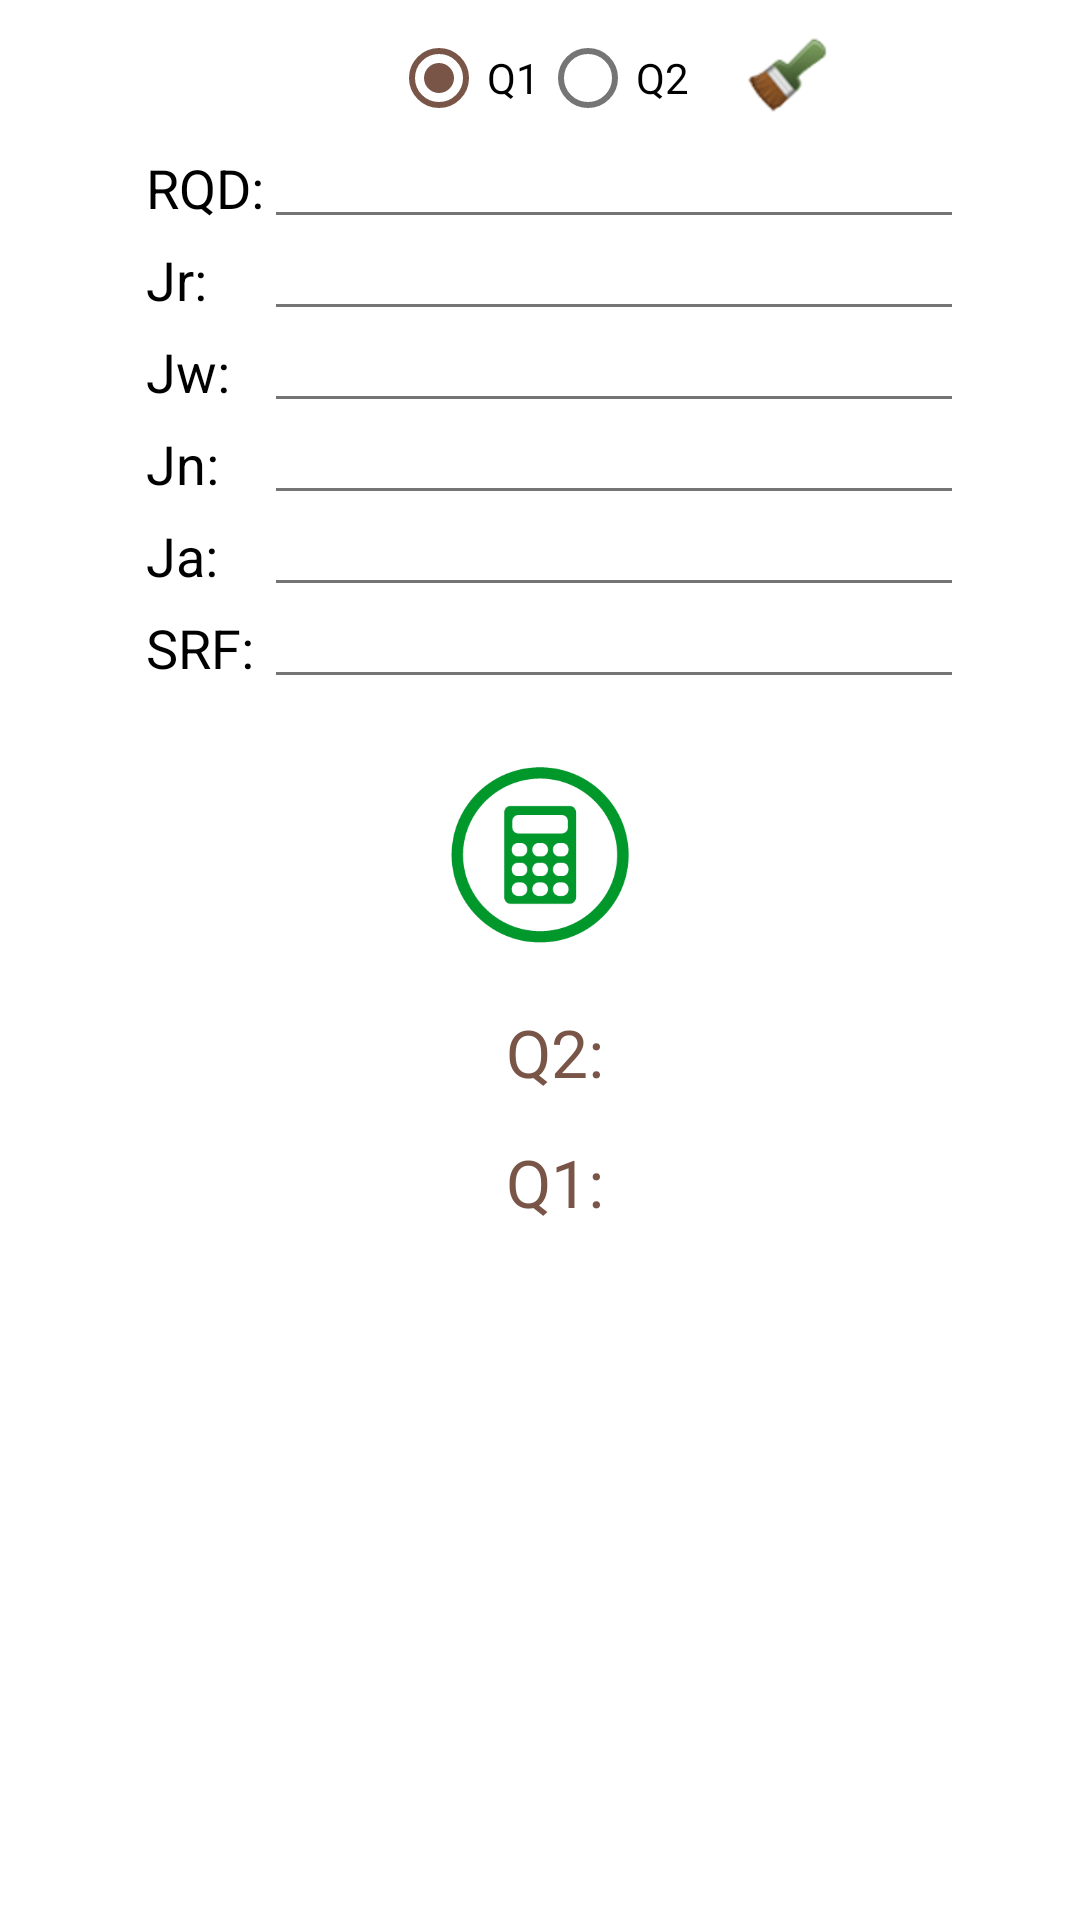

Icon bounding boxes for this 1080w x 1920h phone screenshot, format (x1, y1, x2, y2):
calcular: (451, 767, 629, 943)
limpiar: (748, 38, 826, 112)
